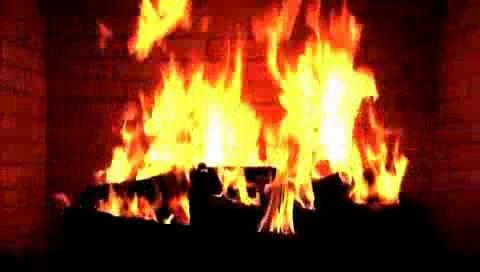fire: (92, 1, 411, 242)
